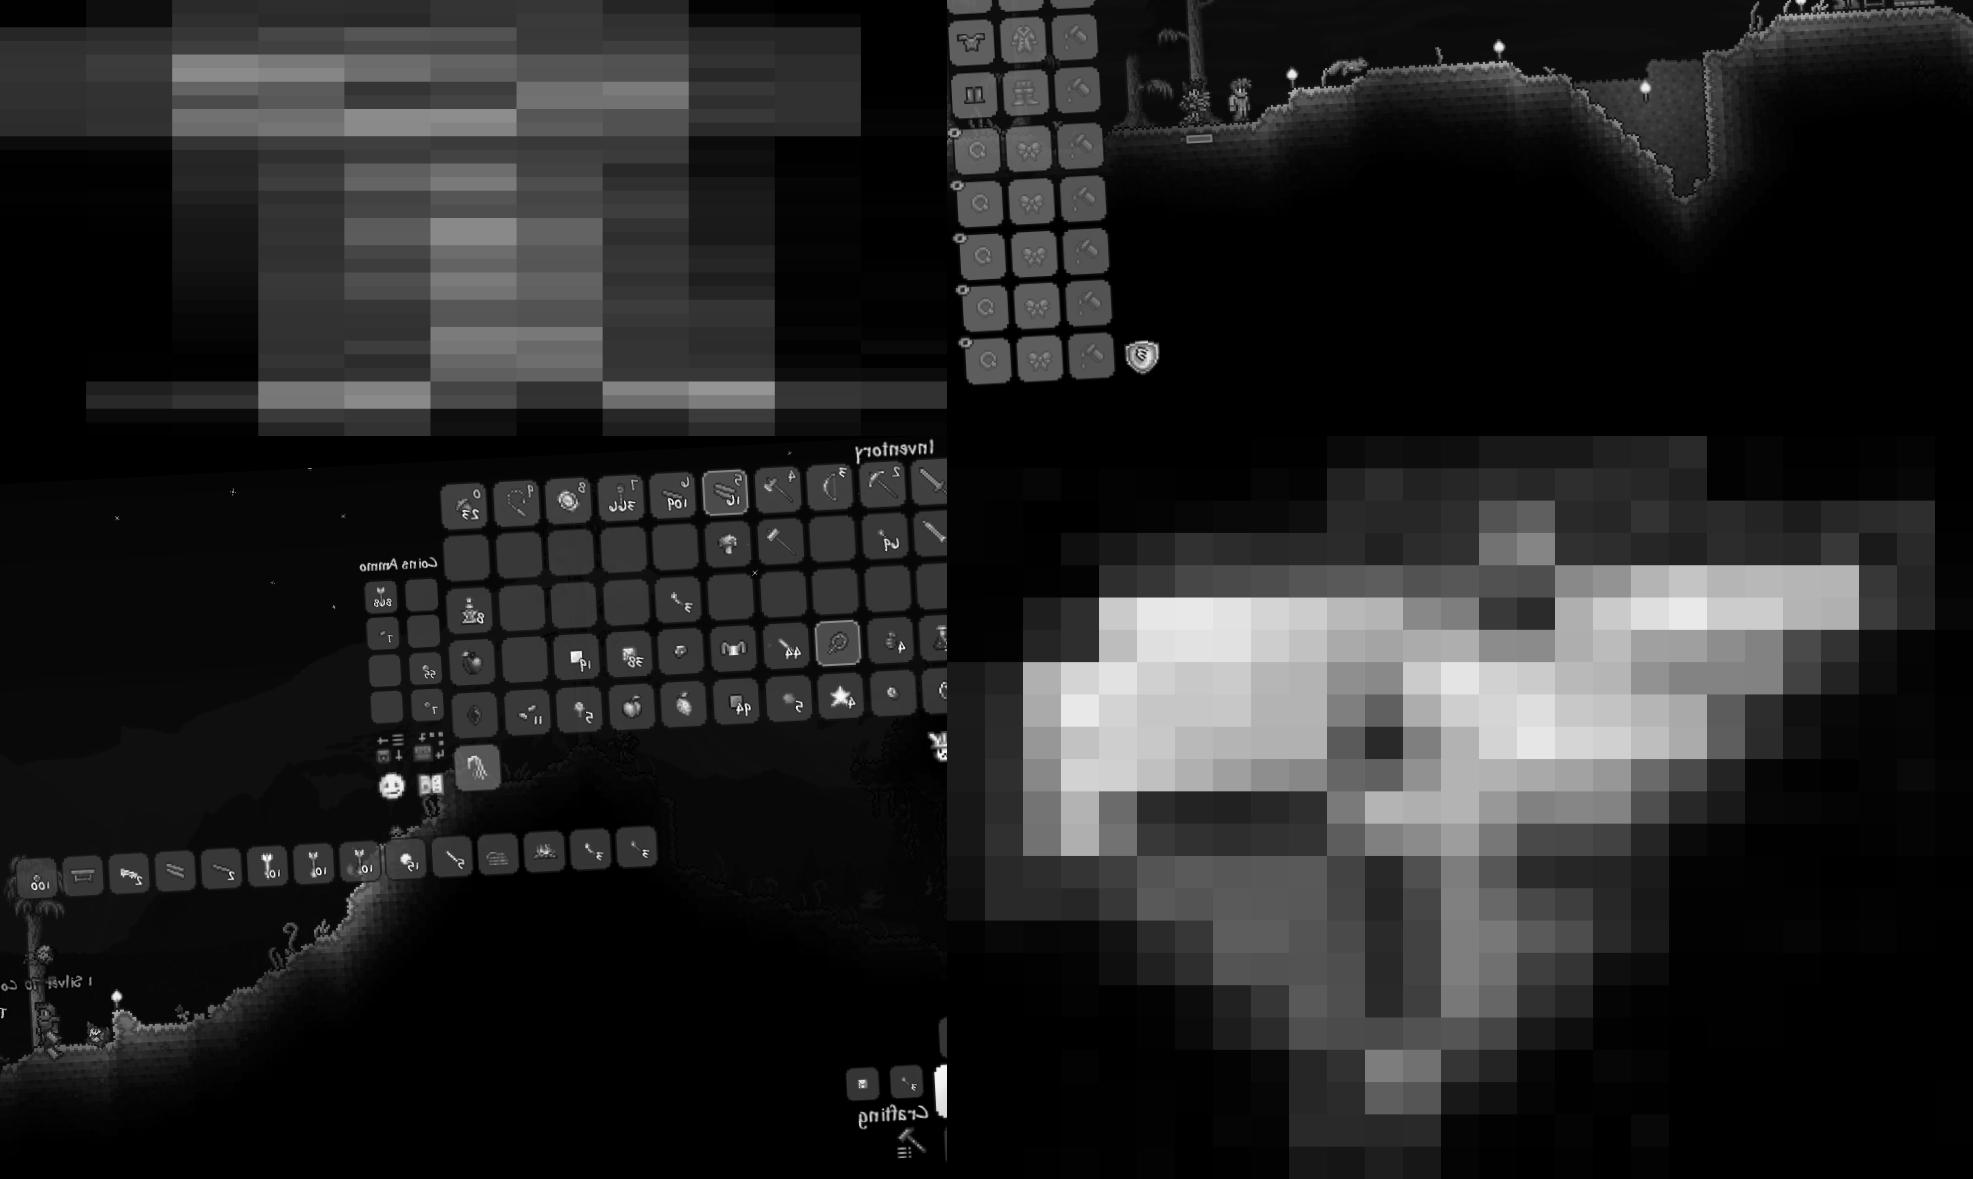helmet: (947, 437, 1973, 1179)
recallP: (456, 592, 486, 630)
rope: (0, 0, 947, 437)
